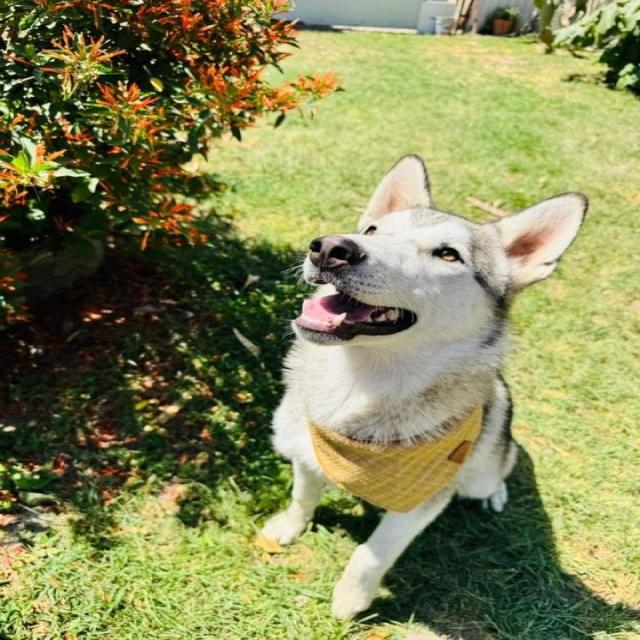siberian_husky_dog: (286, 147, 595, 362)
